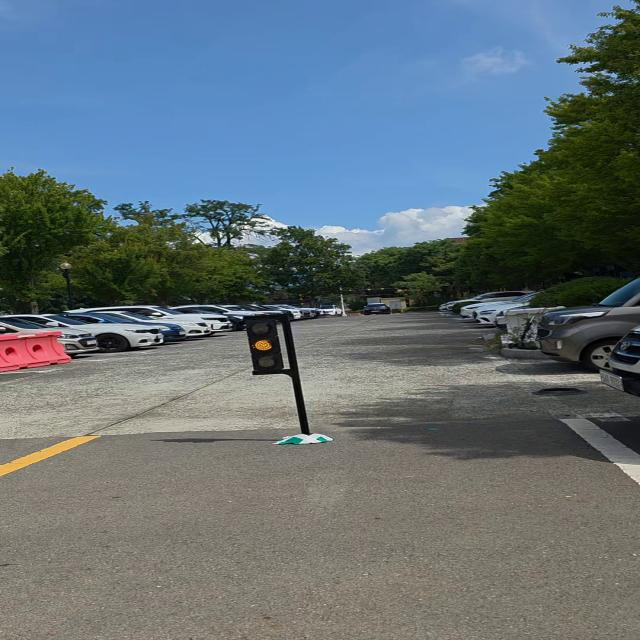yellow: (241, 318, 293, 378)
